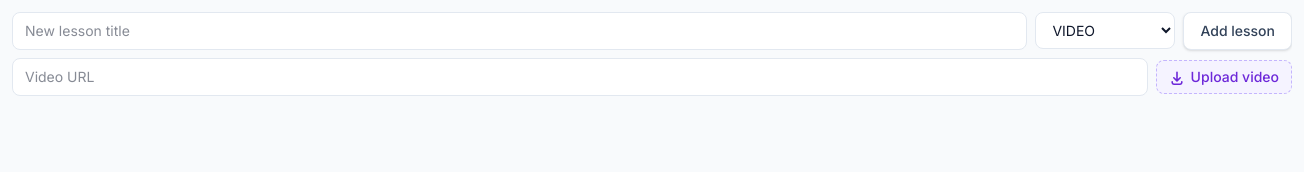
Test: AddLessonForm › shows an "Upload video" button only when the lesson type is VIDEO
Expected: the file field labelled "Upload video" is shown, [1156,60,1292,94]
Select "TEXT" in the dropdown named "lesson type": (1105, 30) [1035,12,1175,49]
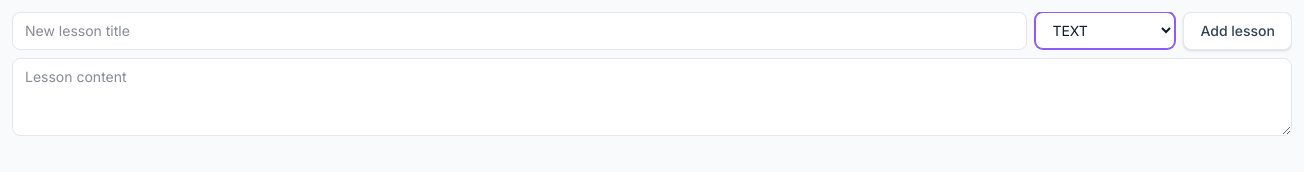
Expected: the file field labelled "Upload video" is gone
Expected: the text box labelled "Lesson content" is shown, [12,58,1292,136]
